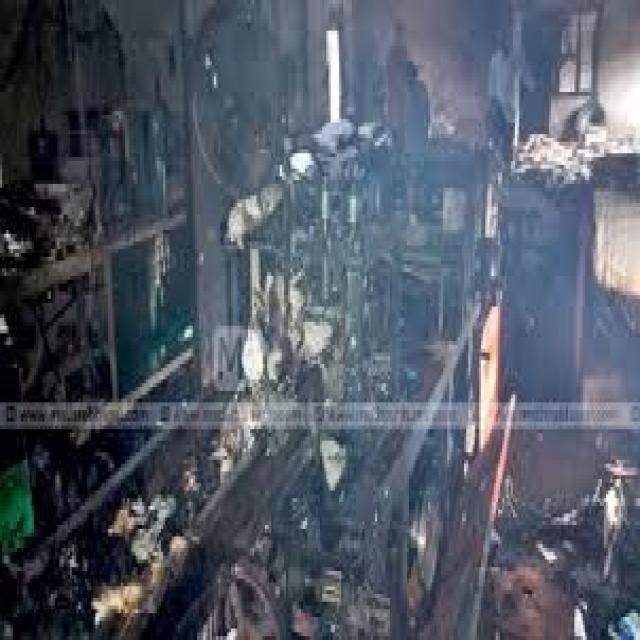Smoke: (182, 95, 516, 530)
